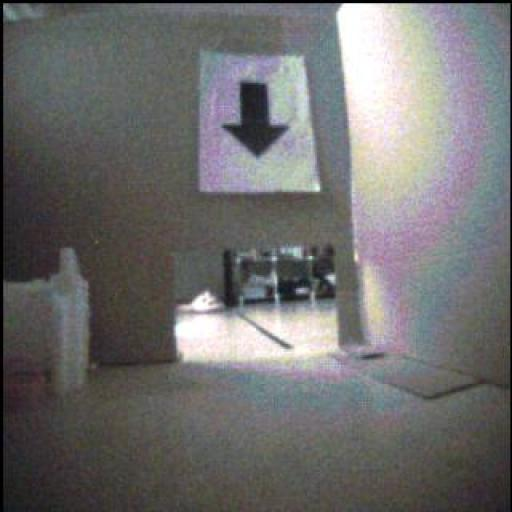arrow: (223, 83, 289, 158)
